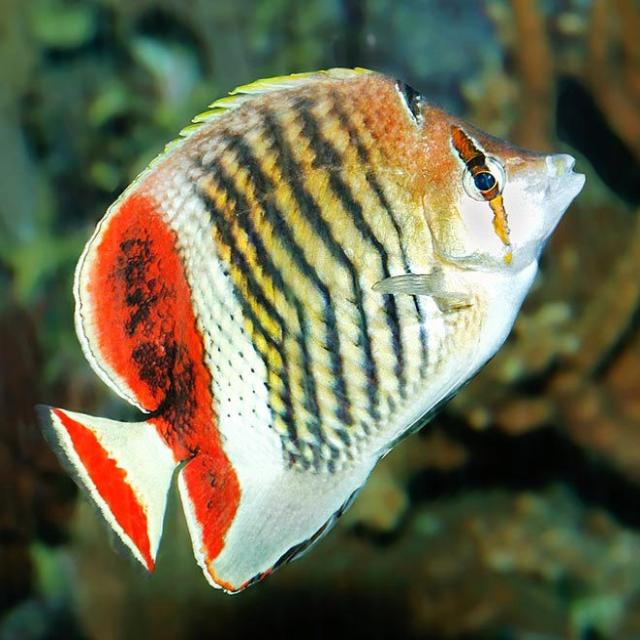ButterflyFish: (41, 63, 587, 597)
